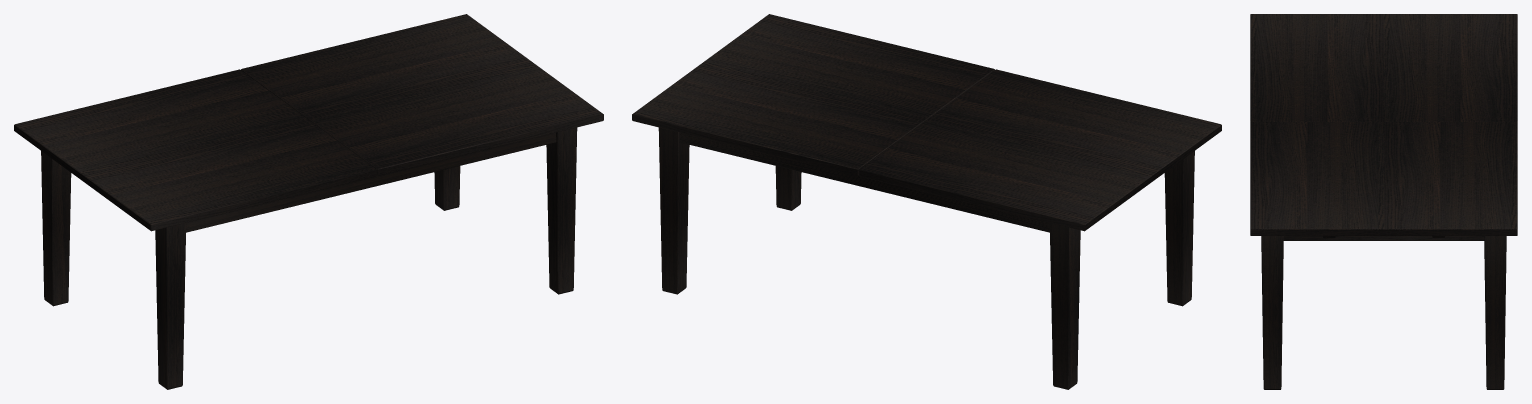
Rendered from table_stornas.dae.
3 views of the same model, side by side, from view 1: azimuth 30°, elevation 25°; view 2: azimuth 150°, elevation 25°; view 3: azimuth 270°, elevation 25° (orthographic). The views are drawn at different scales.
Visible parts, largest first — view 1: Group_3; view 2: Group_3; view 3: Group_3.
Boxes of the visible parts, box(x1,y1,x2,y2) form: Group_3: box(14, 14, 603, 389); Group_3: box(632, 14, 1221, 389); Group_3: box(1250, 14, 1517, 389).
Size of the model in its own units: 78.84 by 41.34 by 29.33.
